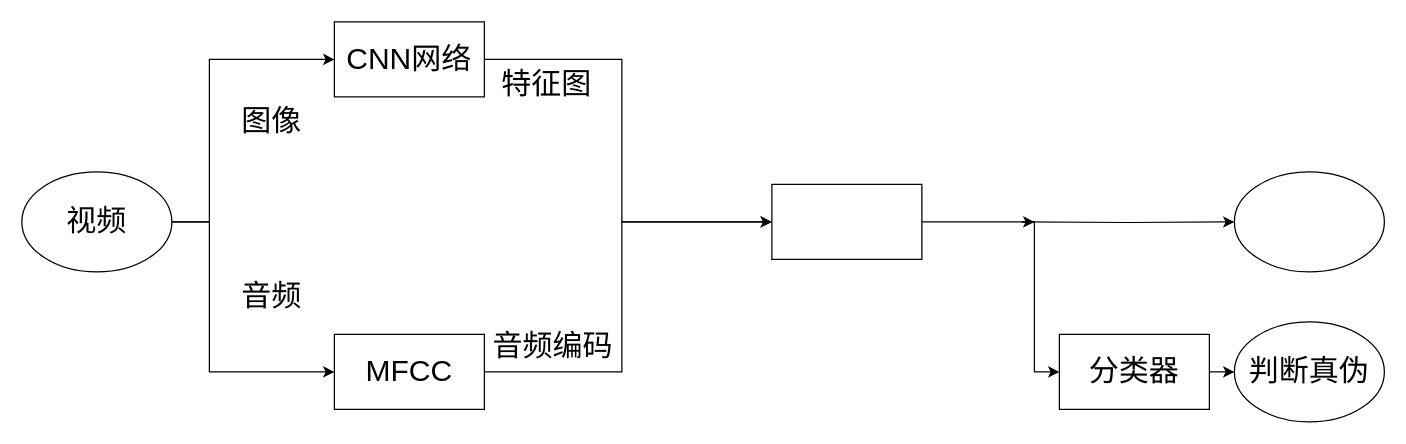
The diagram is 1406 pixels wide and 444 high, and some of its shapes have lost their labels. Here are the shapes that lost their labels. From the top down, the centre of each, then its label:
At point 846,221: "transformer神经网络".
At point 1308,221: "文本信息".
